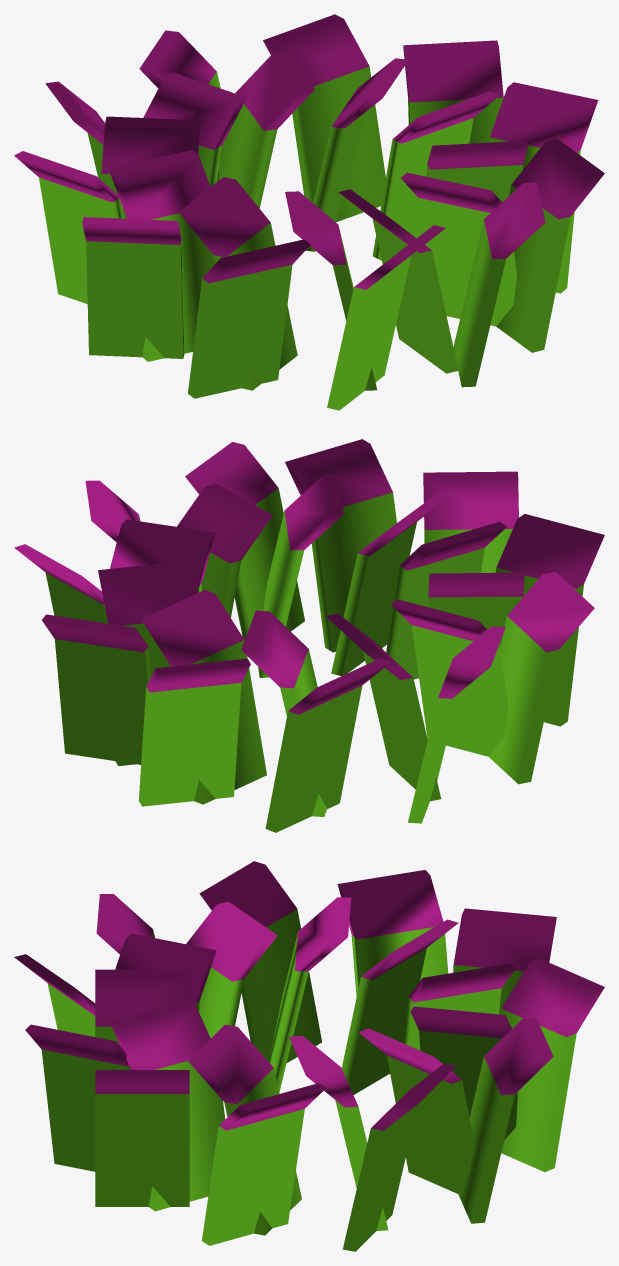
Rendered from Plant_5.obj.
3 views of the same model, one above another, from view 1: azimuth 30°, elevation 25°; view 2: azimuth 150°, elevation 25°; view 3: azimuth 270°, elevation 25° (orthographic).
Visible parts, largest first — view 1: Plant_5; view 2: Plant_5; view 3: Plant_5.
Part boxes in pixels (<box>): Plant_5: <box>14,14,604,410</box>; Plant_5: <box>14,439,604,832</box>; Plant_5: <box>14,861,604,1251</box>.
Size of the model in its own units: 108 by 32.64 by 109.
